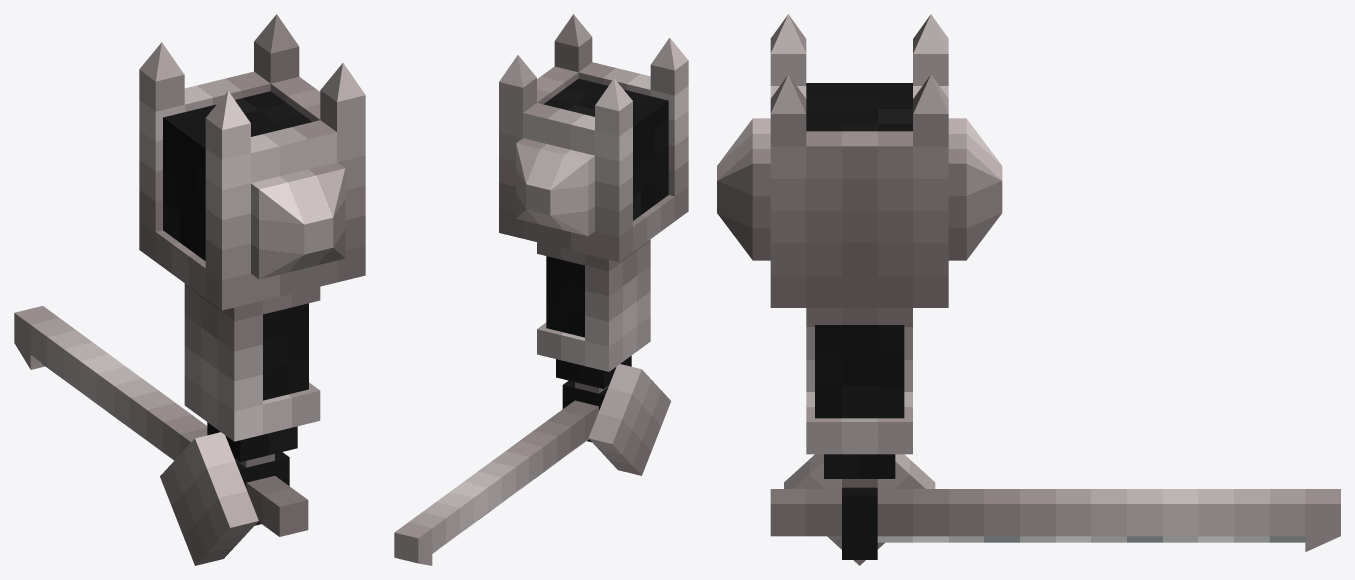
File: arm_fisher_l.obj
The picture shows the model from 3 angles, left to right: view 1: azimuth 30°, elevation 25°; view 2: azimuth 150°, elevation 25°; view 3: azimuth 270°, elevation 25°; orthographic projection. The views are drawn at different scales.
Parts seen in each view (by area): view 1: ARM_LEFT_FISHER_Cube.010, ARM_LEFT_DECO_IRON_Cube.151; view 2: ARM_LEFT_FISHER_Cube.010, ARM_LEFT_DECO_IRON_Cube.151; view 3: ARM_LEFT_FISHER_Cube.010, ARM_LEFT_DECO_IRON_Cube.151.
Part boxes in pixels (bbox=[...]): ARM_LEFT_FISHER_Cube.010: bbox=[14, 71, 365, 565]; ARM_LEFT_DECO_IRON_Cube.151: bbox=[139, 14, 365, 279]; ARM_LEFT_FISHER_Cube.010: bbox=[394, 62, 688, 565]; ARM_LEFT_DECO_IRON_Cube.151: bbox=[499, 14, 688, 235]; ARM_LEFT_FISHER_Cube.010: bbox=[770, 83, 1340, 565]; ARM_LEFT_DECO_IRON_Cube.151: bbox=[717, 14, 1002, 260].
Bounding box in the file's own units: 0.3125 × 1.04 × 1.09.
